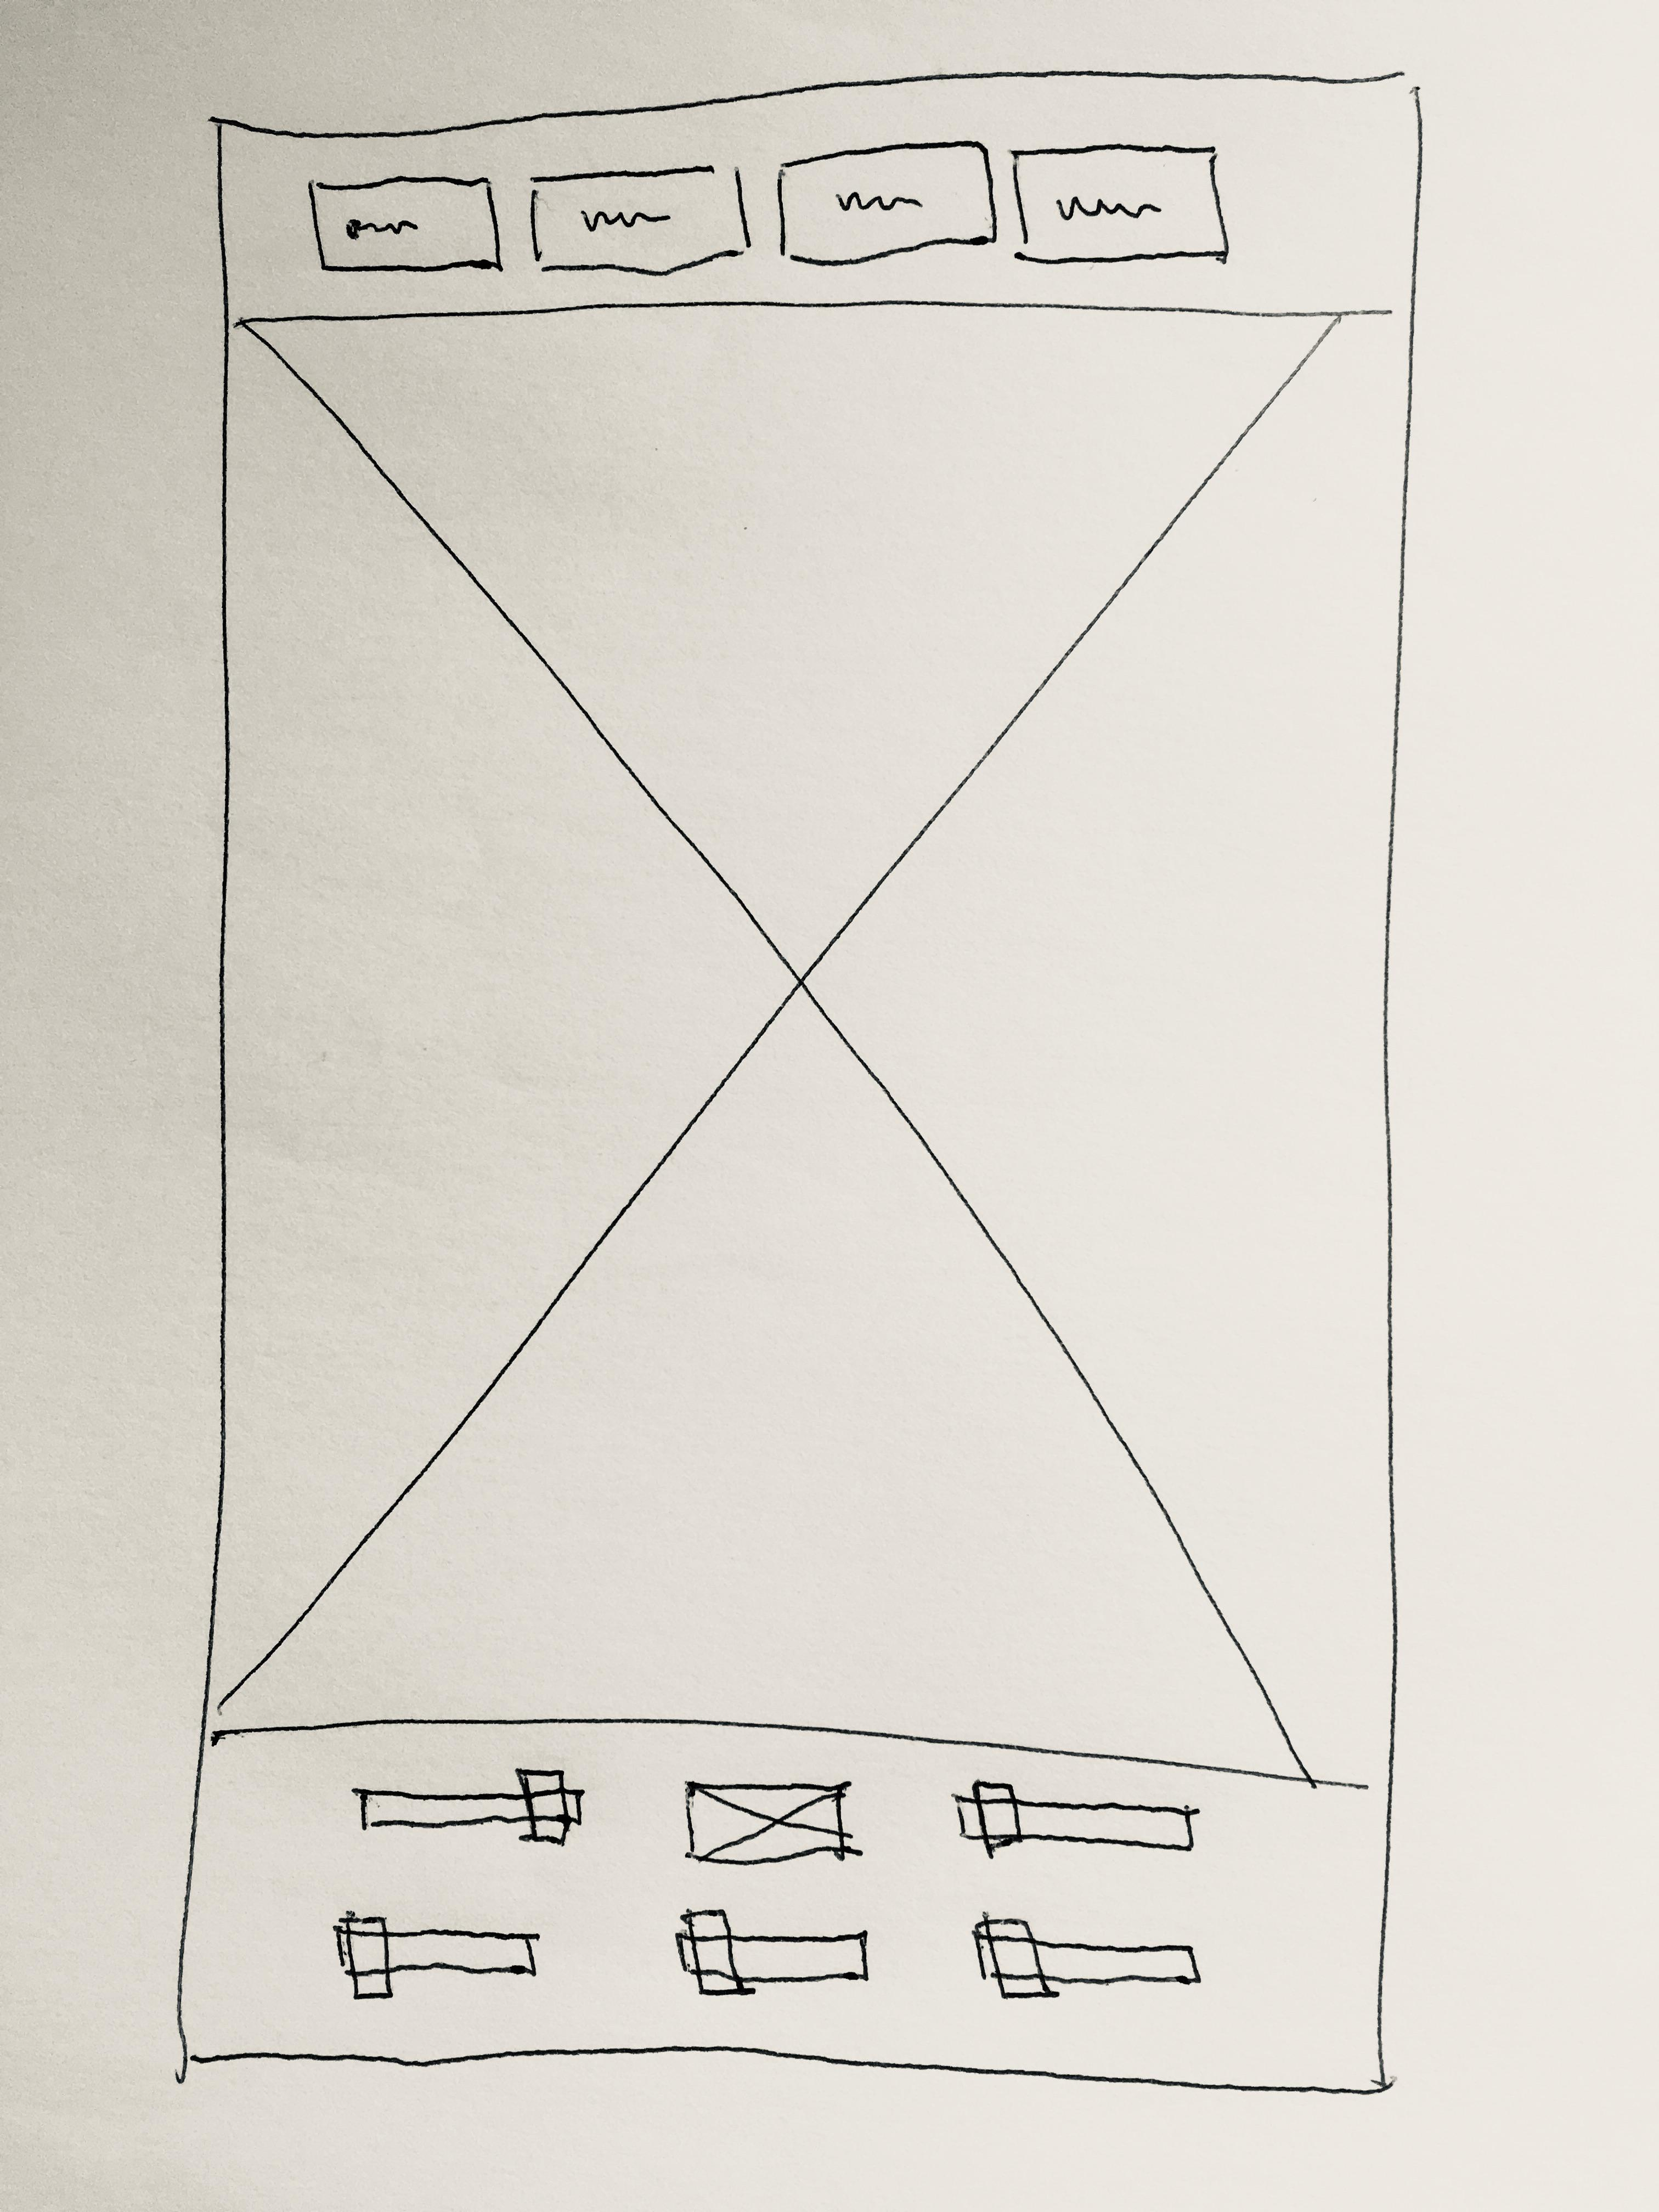Button: (779, 142, 997, 264), (1011, 146, 1232, 264), (532, 162, 750, 276), (304, 176, 501, 273)
Image: (206, 299, 1413, 1789), (683, 1780, 848, 1864)
Screen: (179, 69, 1424, 2094)
Slider: (969, 1916, 1203, 1998), (954, 1784, 1194, 1859), (356, 1767, 584, 1846), (331, 1910, 535, 1998), (674, 1907, 870, 1995)
